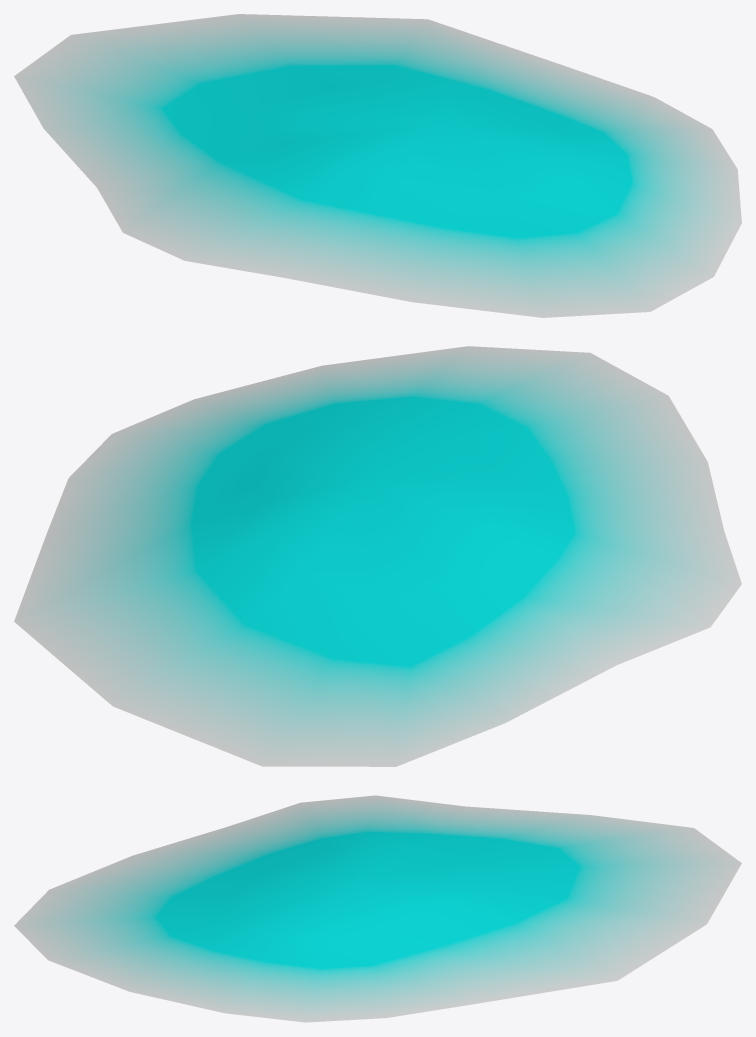
File: GroundPebbles.fbx
The picture shows the model from 3 angles, top to bottom: view 1: azimuth 30°, elevation 25°; view 2: azimuth 150°, elevation 25°; view 3: azimuth 270°, elevation 25°; orthographic projection. The views are drawn at different scales.
Parts seen in each view (by area): view 1: GroundPebbles; view 2: GroundPebbles; view 3: GroundPebbles.
Part boxes in pixels (x1,y1,x2,y2): GroundPebbles: (14,14,741,317); GroundPebbles: (14,346,741,766); GroundPebbles: (14,795,741,1022).
Bounding box in the file's own units: 2.36 × 0.181 × 3.19.
